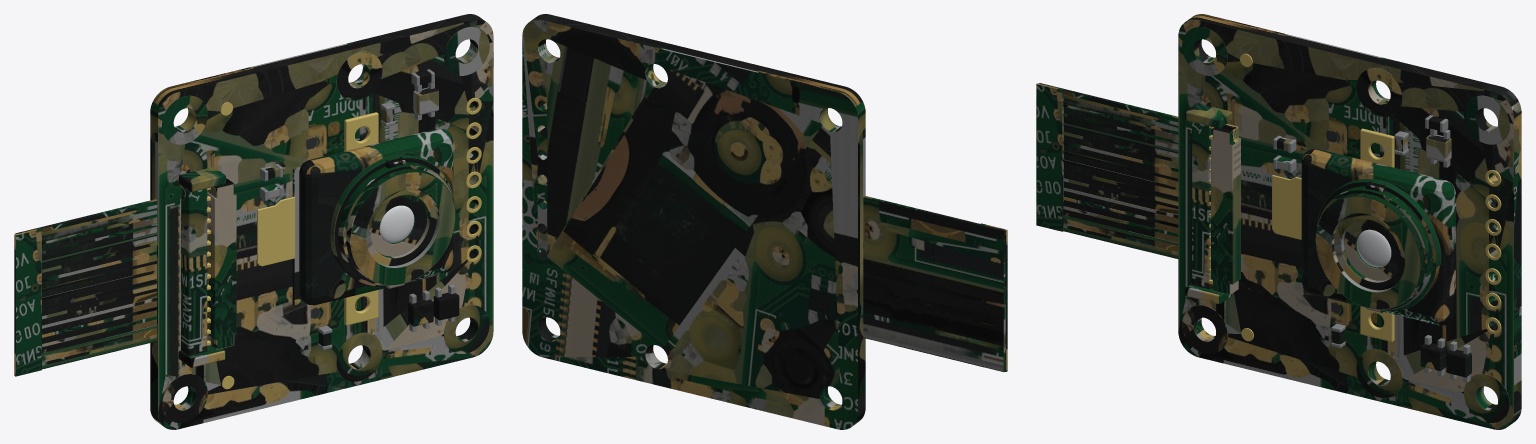
The model's file is pi-camera.glb.
3 renders of one model, left to right at view 1: azimuth 30°, elevation 25°; view 2: azimuth 150°, elevation 25°; view 3: azimuth 330°, elevation 25°, orthographic.
Visible parts, largest first — view 1: pcb_board, connector_latch; view 2: pcb_board; view 3: pcb_board, connector_latch.
Boxes of the visible parts, <box> form: pcb_board: <box>14,14,493,429</box>; connector_latch: <box>207,177,236,349</box>; pcb_board: <box>522,14,1007,429</box>; pcb_board: <box>1036,14,1521,429</box>; connector_latch: <box>1211,124,1240,294</box>.
Size of the model in its own units: 0.0356 by 0.024 by 0.00456.
Materials: 1 (1 with a texture image).
